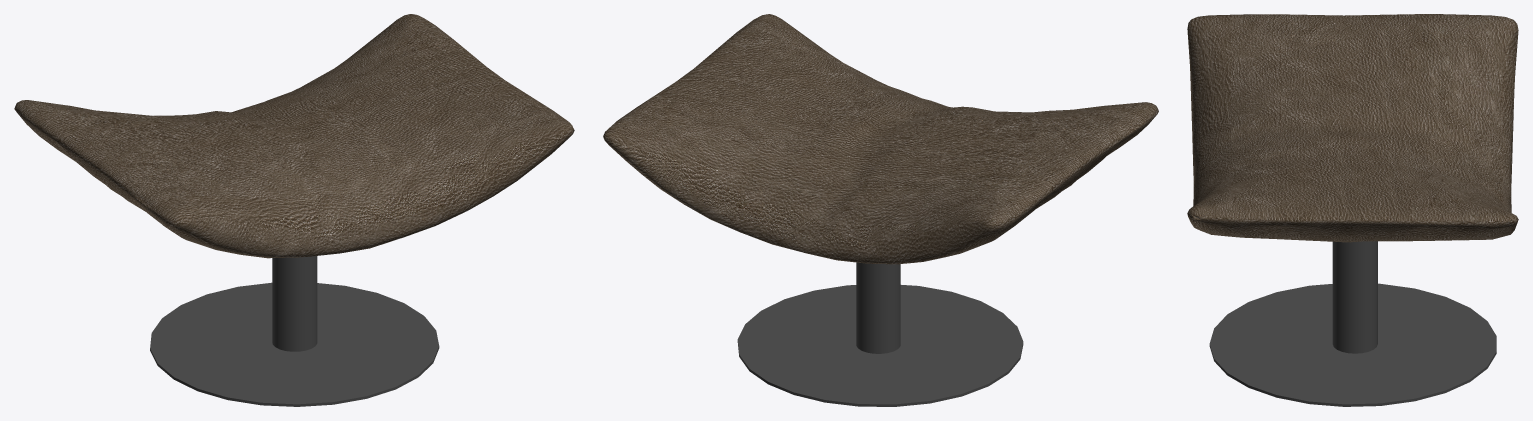
The model's file is Chair 2 element.FBX.
The picture shows the model from 3 angles, left to right: view 1: azimuth 30°, elevation 25°; view 2: azimuth 150°, elevation 25°; view 3: azimuth 270°, elevation 25°; orthographic projection.
Parts seen in each view (by area): view 1: chair element; view 2: chair element; view 3: chair element.
Part boxes in pixels (x1,y1,x2,y2): chair element: (14, 14, 574, 406); chair element: (603, 14, 1158, 406); chair element: (1187, 14, 1518, 406).
Bounding box in the file's own units: 853 × 471 × 599.
2 materials, 1 textured.
